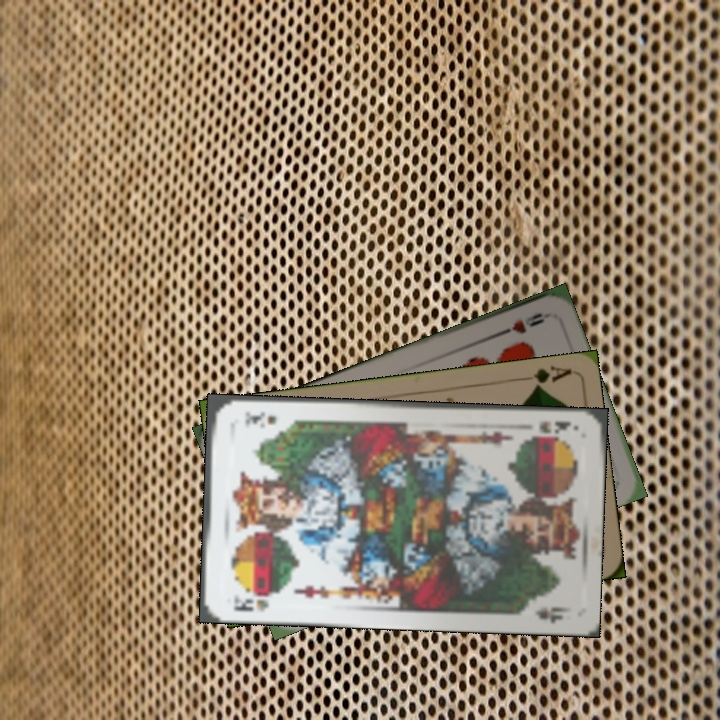GA: (514, 362, 573, 392)
H9: (493, 308, 547, 340)
SK: (230, 591, 271, 615), (535, 416, 574, 436)
